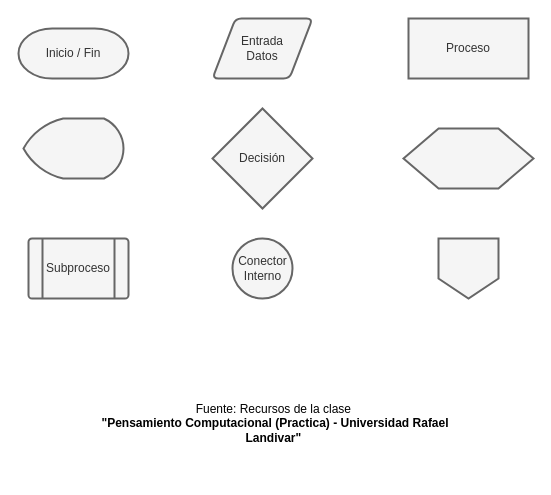
The diagram is 551 pixels wide and 495 high, and some of its shapes have lost their labels. The shapes that lost their labels are listed below. From the top down, each one's box as (x1, y1, x2, y2) in pixels, then its label:
(22, 117, 124, 179): Salida Datos
(402, 127, 534, 189): Selector
(437, 237, 499, 299): Conector Externo
